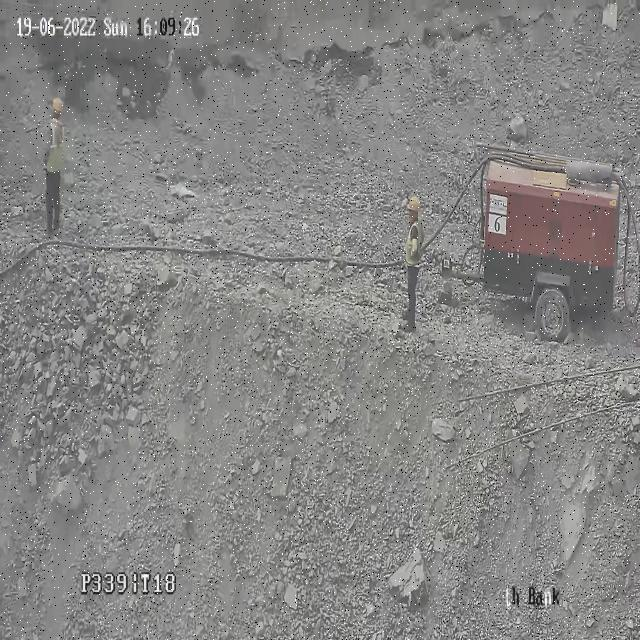Boots: (400, 320, 416, 332), (402, 308, 414, 321), (53, 220, 60, 231), (46, 226, 52, 238)
Helmet: (405, 193, 422, 213), (51, 96, 66, 111)
Mask: (46, 120, 62, 172), (408, 220, 421, 270)
